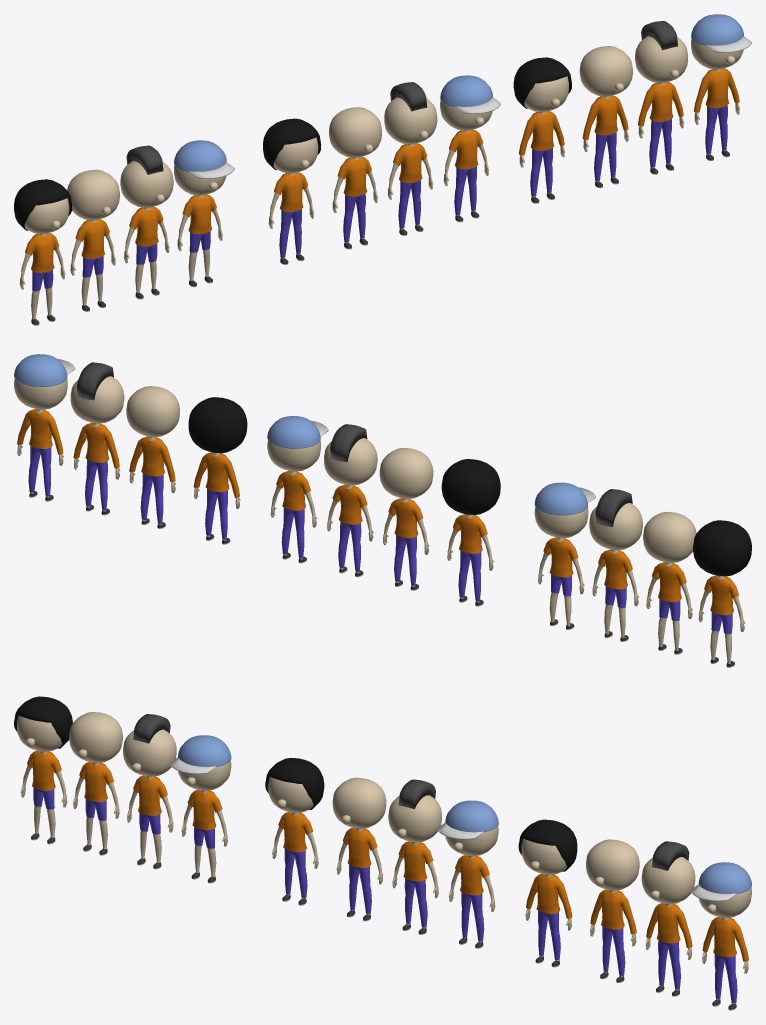
The model's file is npcs_male.fbx.
3 renders of one model, top to bottom at view 1: azimuth 30°, elevation 25°; view 2: azimuth 150°, elevation 25°; view 3: azimuth 330°, elevation 25°, orthographic.
Visible parts, largest first — view 1: camisola.002, sapatos, corpot.005, camisola.005, camisola.007, camisola.004, camisola.008, corpot.014, Circle.002, camisola.001, camisola.006, corpot.015; view 2: sapatos, corpot.005, camisola.007, camisola.002, camisola.008, camisola.004, Circle.002, camisola.005, corpot.014, camisola.001, camisola.006, corpot.015; view 3: camisola.002, sapatos, corpot.005, camisola.007, camisola.005, camisola.004, corpot.014, camisola.008, Circle.002, camisola.001, camisola.006, corpot.015.
Part boxes in pixels (bbox=[...]): camisola.002: bbox=[635, 21, 687, 174]; sapatos: bbox=[513, 57, 571, 203]; corpot.005: bbox=[691, 14, 751, 160]; camisola.005: bbox=[384, 82, 437, 235]; camisola.007: bbox=[263, 118, 320, 264]; camisola.004: bbox=[440, 75, 500, 222]; camisola.008: bbox=[14, 179, 72, 325]; corpot.014: bbox=[120, 145, 173, 299]; Circle.002: bbox=[174, 140, 234, 287]; camisola.001: bbox=[579, 46, 632, 188]; camisola.006: bbox=[329, 107, 381, 249]; corpot.015: bbox=[67, 169, 119, 311]; sapatos: bbox=[188, 397, 247, 544]; corpot.005: bbox=[14, 354, 75, 501]; camisola.007: bbox=[441, 459, 500, 606]; camisola.002: bbox=[70, 362, 124, 515]; camisola.008: bbox=[693, 520, 751, 667]; camisola.004: bbox=[267, 416, 328, 563]; Circle.002: bbox=[534, 482, 595, 629]; camisola.005: bbox=[324, 424, 377, 577]; corpot.014: bbox=[589, 489, 642, 641]; camisola.001: bbox=[126, 386, 179, 528]; camisola.006: bbox=[379, 447, 433, 590]; corpot.015: bbox=[643, 511, 696, 654]; camisola.002: bbox=[641, 841, 695, 996]; sapatos: bbox=[518, 819, 577, 967]; corpot.005: bbox=[690, 862, 751, 1010]; camisola.007: bbox=[265, 758, 324, 905]; camisola.005: bbox=[388, 779, 441, 934]; camisola.004: bbox=[437, 800, 498, 948]; corpot.014: bbox=[123, 714, 176, 869]; camisola.008: bbox=[14, 696, 72, 844]; Circle.002: bbox=[170, 735, 231, 883]; camisola.001: bbox=[586, 839, 639, 982]; camisola.006: bbox=[332, 777, 386, 921]; corpot.015: bbox=[69, 712, 122, 855].
Bounding box in the file's own units: 3987 × 770 × 327.
